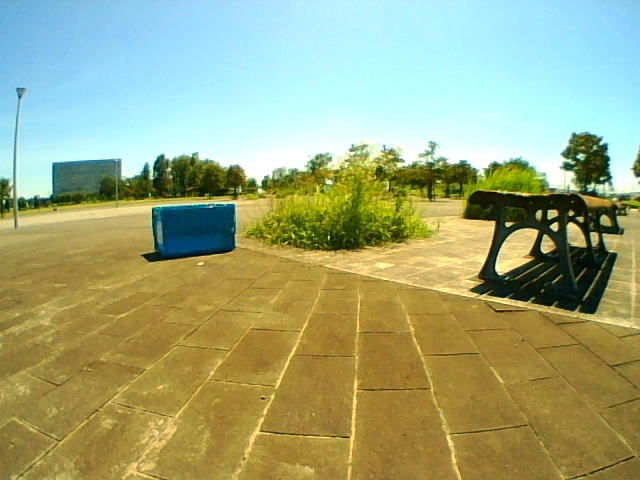blue_box: (153, 207, 236, 251)
tag: (156, 223, 163, 243)
